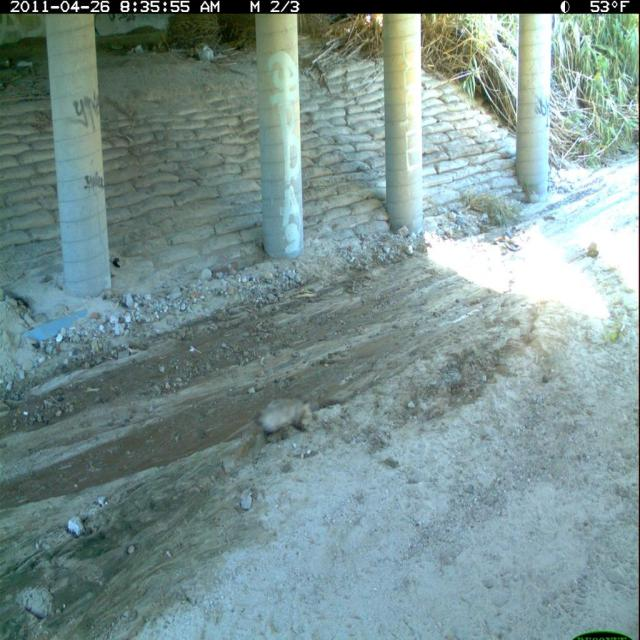opossum: (219, 393, 317, 453)
